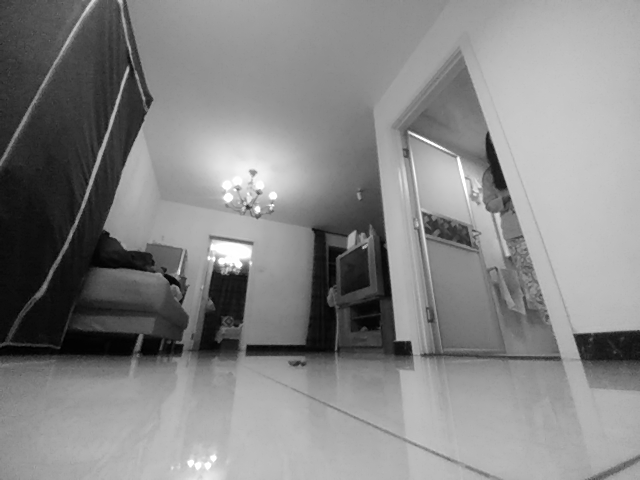curtain: (199, 270, 247, 350)
pet feces: (287, 359, 309, 369)
